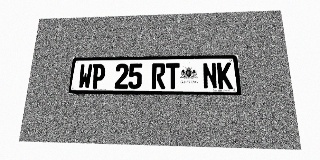2: (114, 64, 129, 89)
5: (128, 63, 142, 89)
K: (217, 62, 233, 89)
N: (202, 63, 218, 89)
P: (91, 64, 106, 89)
R: (151, 63, 165, 89)
T: (166, 63, 180, 89)
W: (78, 64, 93, 89)
